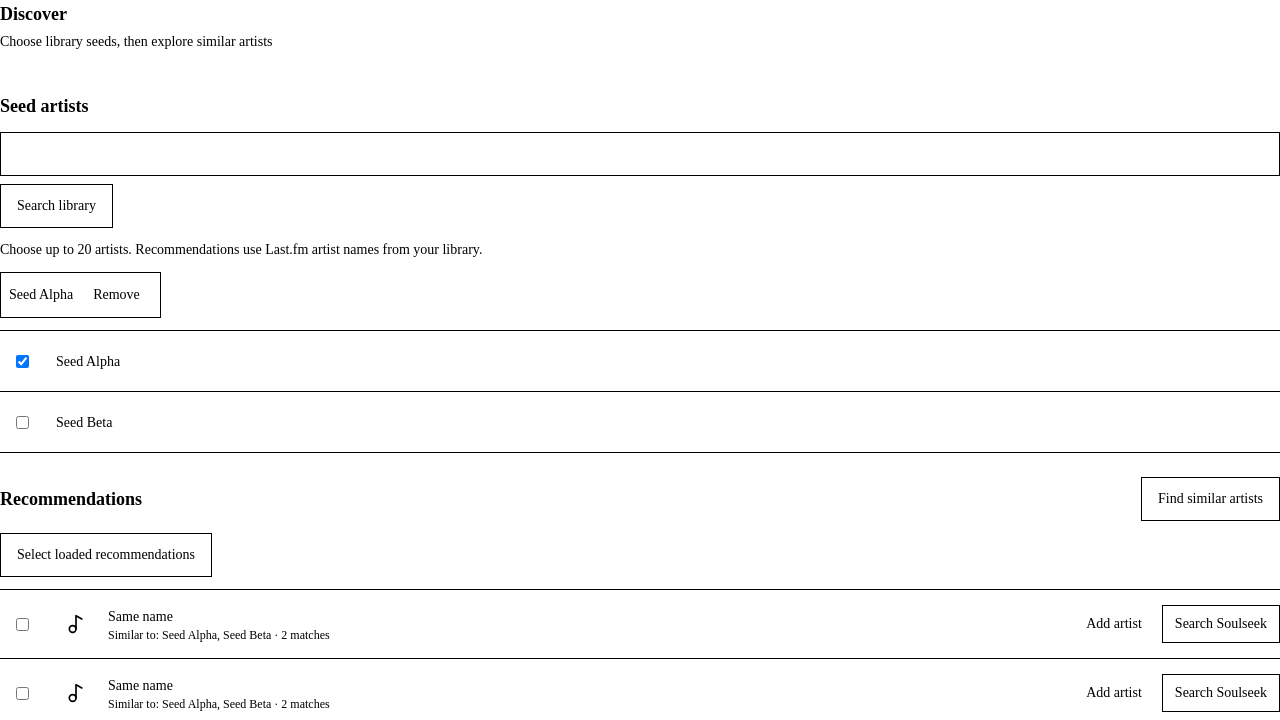
Test: discovery flow › ignores a late confirmed acquisition after the seed owner changes
This screenshot has width=1280, height=720.
Click the button with aria-label "Add artist Same name".
click(1114, 624)  # box [1074, 605, 1154, 643]
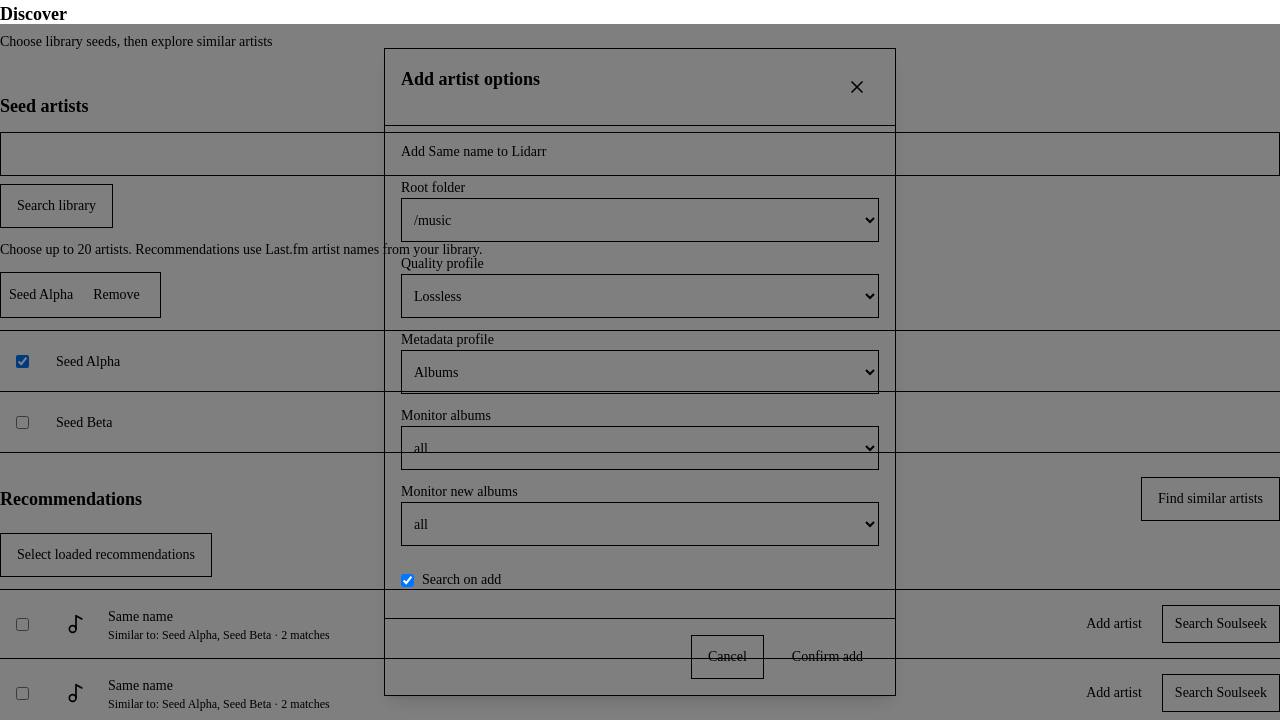
Expected: the button "Confirm add" is enabled
Click the button "Confirm add".
click(827, 657)  # box [776, 635, 879, 679]
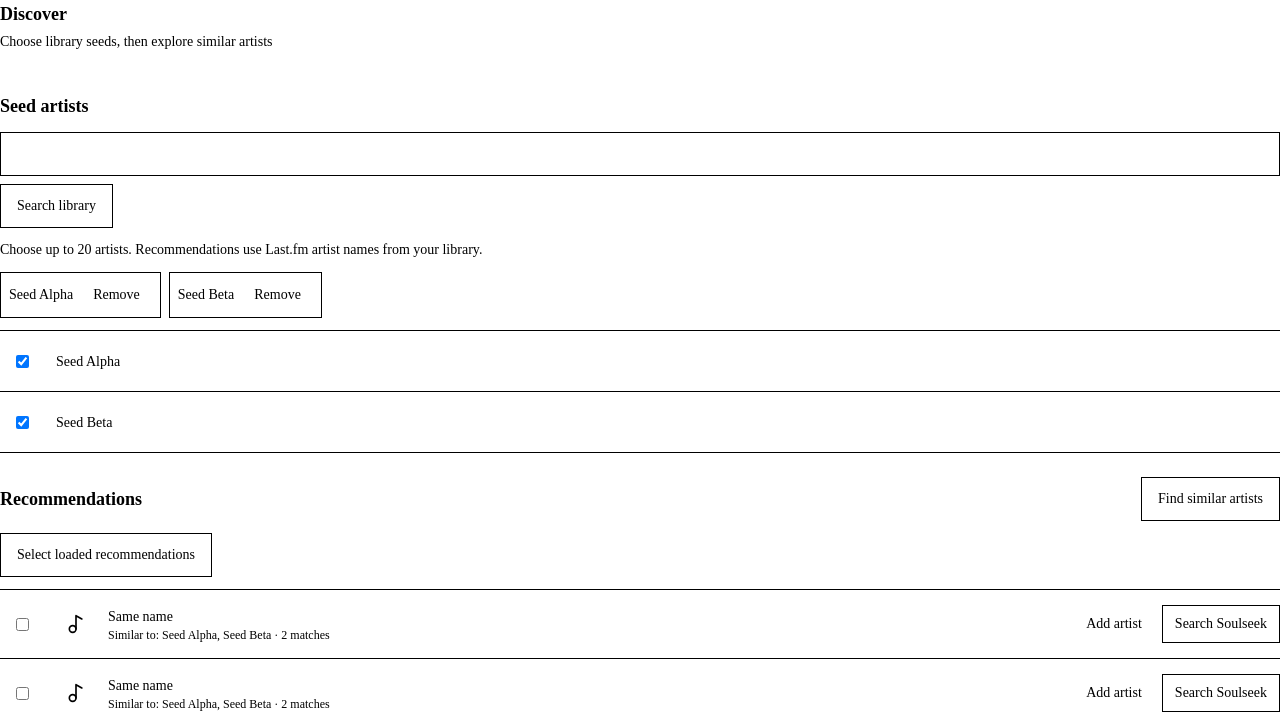
Expected: the dialog is gone
